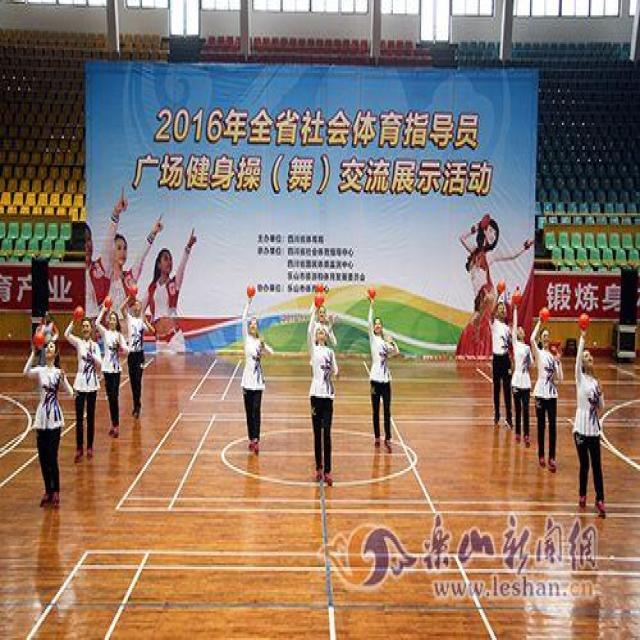non-fight: (27, 325, 69, 505), (306, 294, 338, 486), (571, 346, 607, 511), (67, 310, 101, 460), (530, 319, 562, 473), (366, 310, 397, 454), (240, 315, 268, 461), (492, 286, 514, 428)
